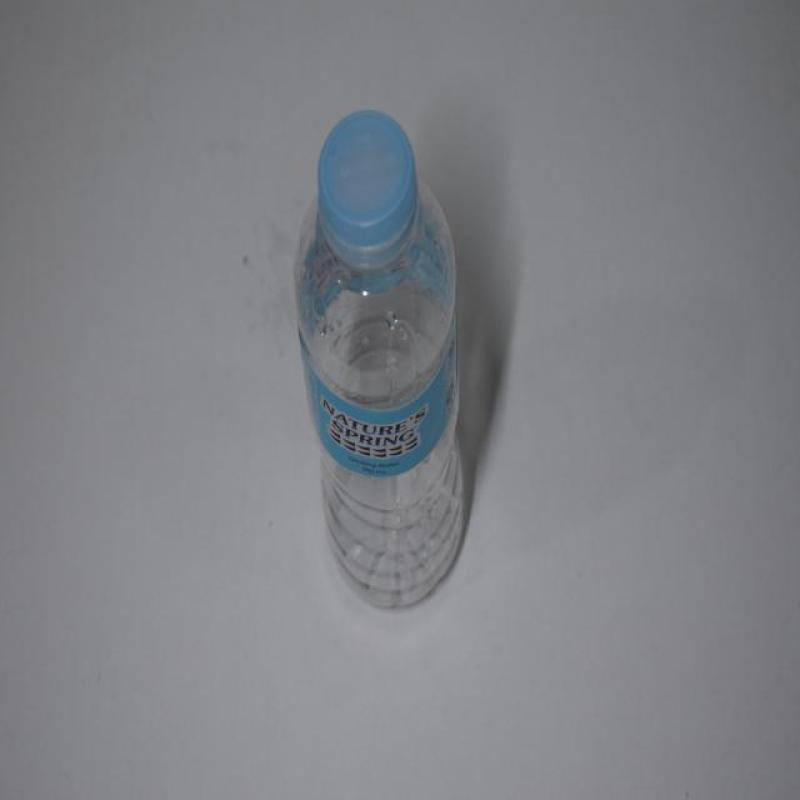botella: (290, 110, 475, 612)
